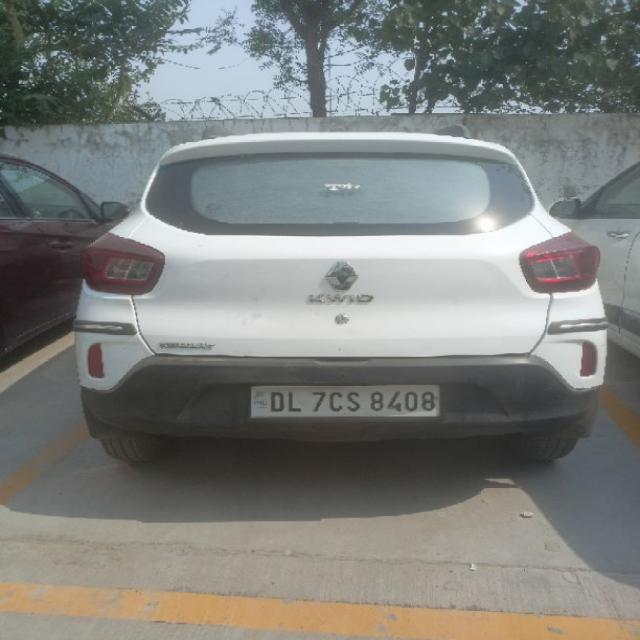license_plate: (247, 382, 441, 420)
